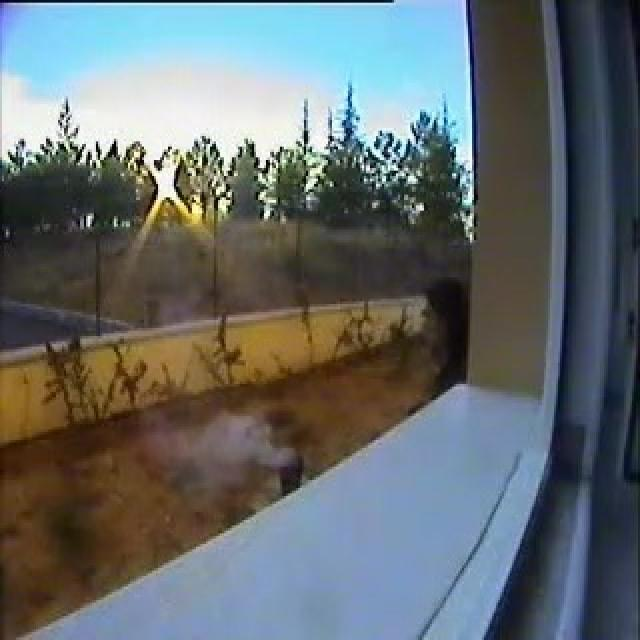smoke: (177, 414, 297, 467)
